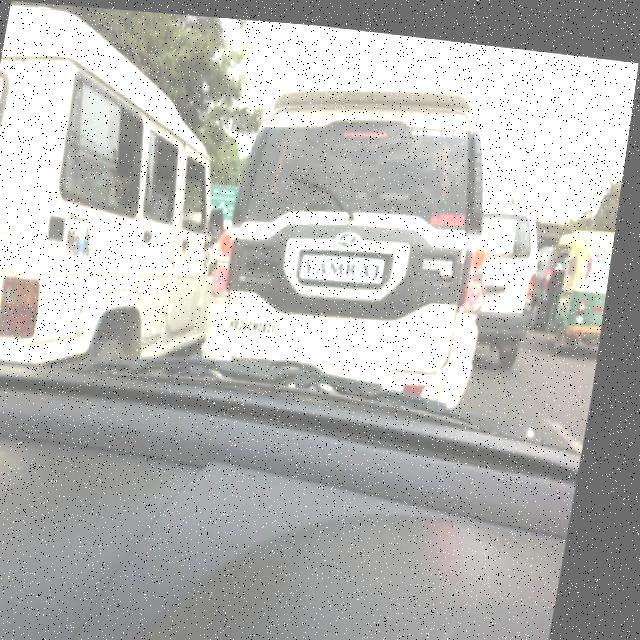license_plate: (304, 242, 394, 276)
